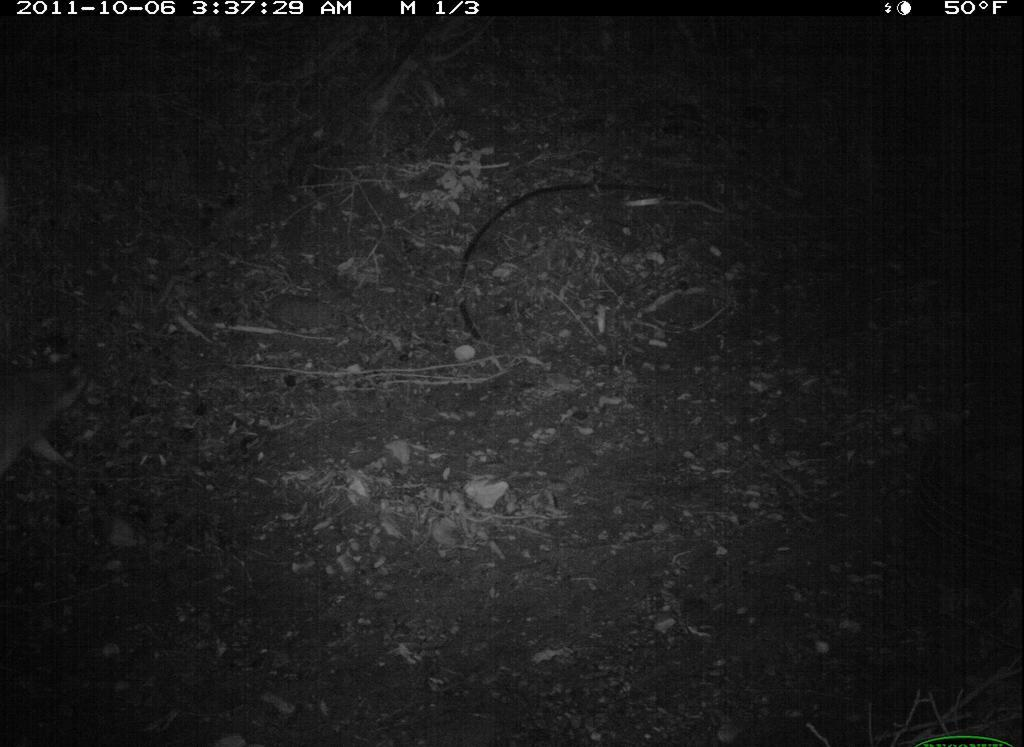raccoon: (12, 319, 98, 493)
